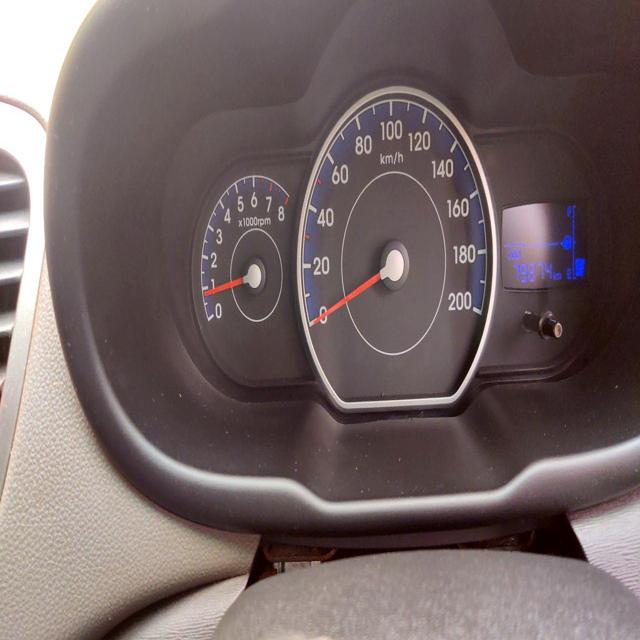odometer: (514, 256, 554, 284)
